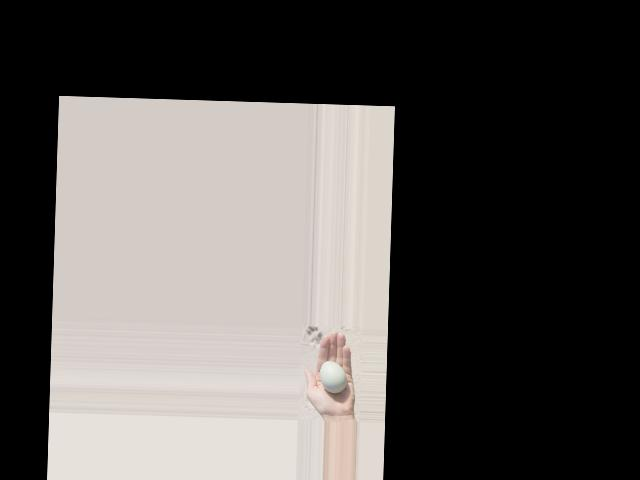egg: (320, 359, 347, 392)
